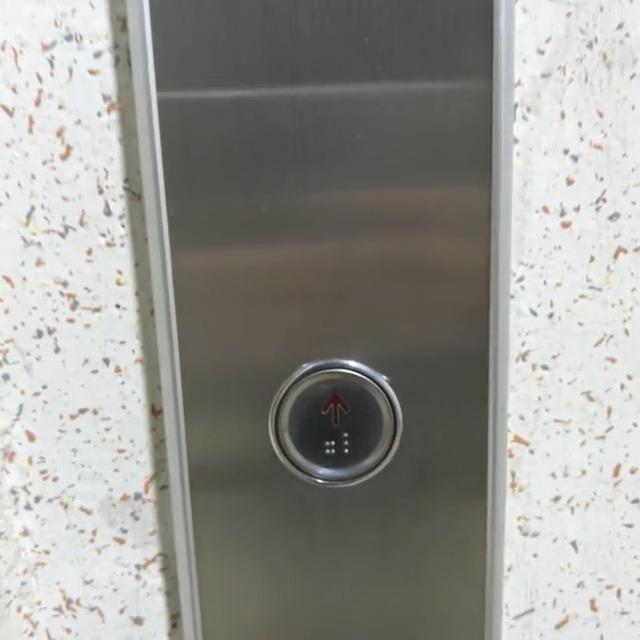button: (284, 346, 393, 490)
